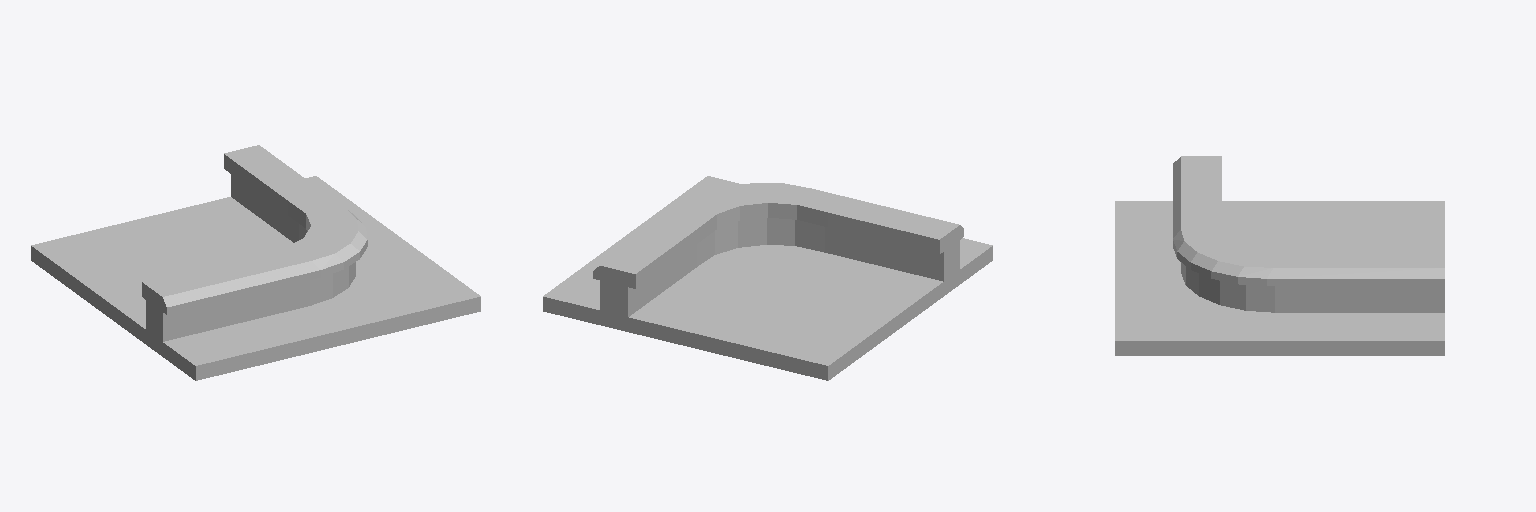
File: park_wall_outerCorner.obj
3 views of the same model, side by side, from view 1: azimuth 30°, elevation 25°; view 2: azimuth 150°, elevation 25°; view 3: azimuth 270°, elevation 25° (orthographic).
Parts seen in each view (by area): view 1: park_wall_outerCorner_Cube.14200; view 2: park_wall_outerCorner_Cube.14200; view 3: park_wall_outerCorner_Cube.14200.
Boxes of the visible parts, x1=… form: park_wall_outerCorner_Cube.14200: x1=31, y1=145, x2=480, y2=380; park_wall_outerCorner_Cube.14200: x1=543, y1=176, x2=992, y2=380; park_wall_outerCorner_Cube.14200: x1=1115, y1=156, x2=1444, y2=355.
Bounding box in the file's own units: 2 × 0.4 × 2.